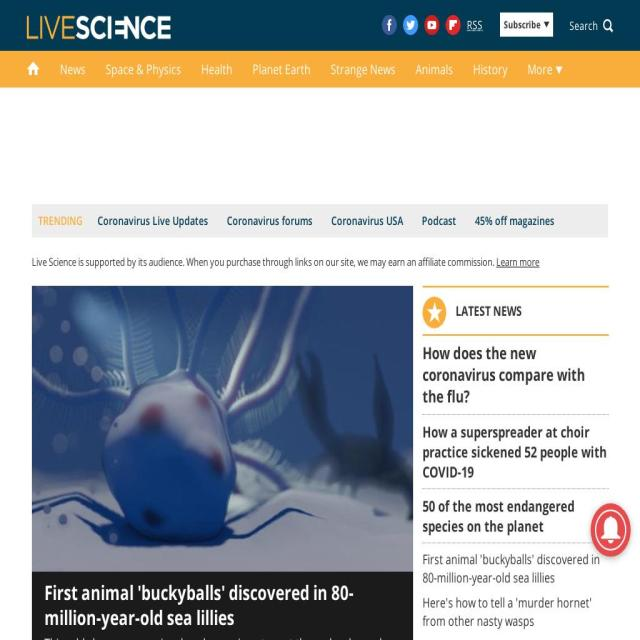button: (32, 286, 413, 640), (422, 336, 608, 414), (422, 415, 608, 488), (422, 489, 608, 543), (422, 544, 608, 594), (422, 593, 608, 637), (89, 204, 217, 238), (218, 204, 321, 238), (96, 51, 191, 87), (466, 204, 563, 238), (320, 51, 406, 87), (322, 204, 412, 238), (242, 51, 320, 87), (406, 51, 463, 87), (463, 51, 518, 87), (192, 51, 242, 87), (413, 204, 465, 238), (50, 51, 96, 87), (467, 15, 482, 35)
heading: (422, 342, 608, 408), (422, 422, 608, 482), (422, 496, 608, 536), (422, 550, 608, 587), (422, 593, 608, 630), (456, 302, 522, 320)
iframe: (92, 104, 548, 179)
image: (32, 286, 413, 572), (27, 16, 171, 40), (590, 503, 630, 557), (424, 15, 440, 35), (382, 15, 397, 35), (403, 15, 418, 35), (446, 15, 460, 35), (544, 21, 549, 28)
link: (496, 254, 540, 269), (467, 16, 482, 32)
text: (44, 577, 354, 631), (32, 254, 496, 269), (44, 633, 400, 640), (569, 0, 603, 51), (38, 204, 89, 238), (106, 60, 181, 78), (330, 60, 396, 78), (252, 60, 310, 78), (416, 60, 453, 78), (473, 60, 508, 78), (202, 60, 232, 78), (504, 18, 540, 32), (527, 60, 555, 78), (60, 60, 86, 78)
